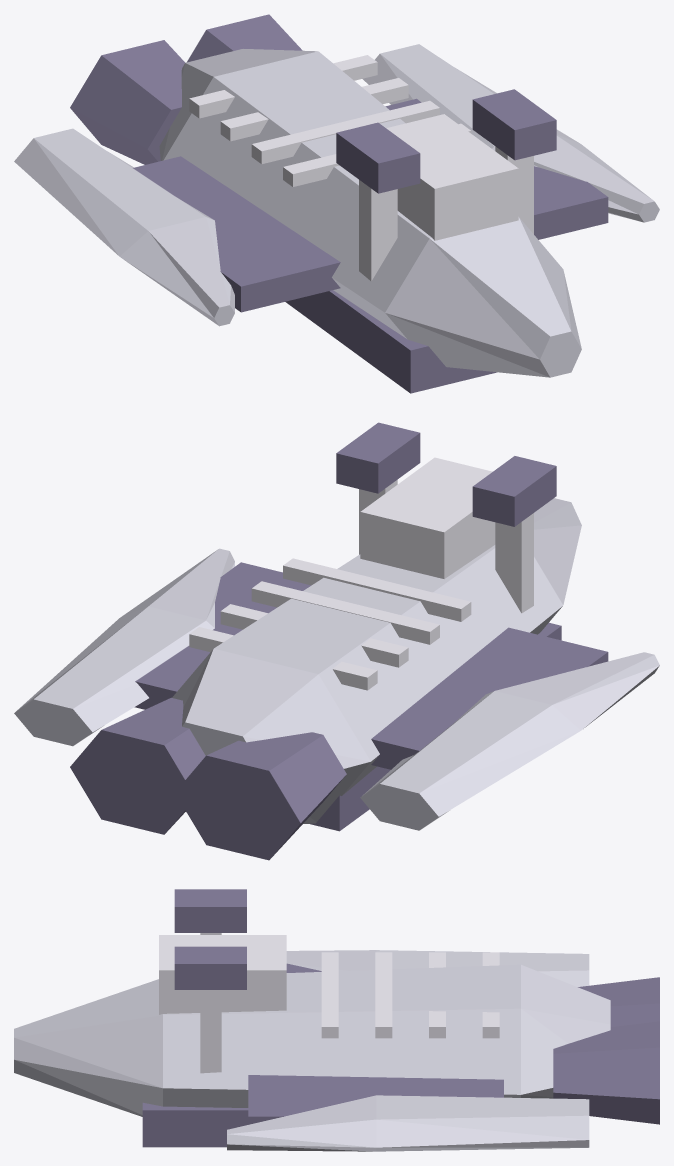
3 views of the same model, one above another, from view 1: azimuth 30°, elevation 25°; view 2: azimuth 150°, elevation 25°; view 3: azimuth 270°, elevation 25° (orthographic). The views are drawn at different scales.
Bounding box in the file's own units: 4.26 × 1.94 × 6.
